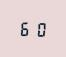six: (19, 19, 31, 36)
zero: (32, 19, 44, 37)
